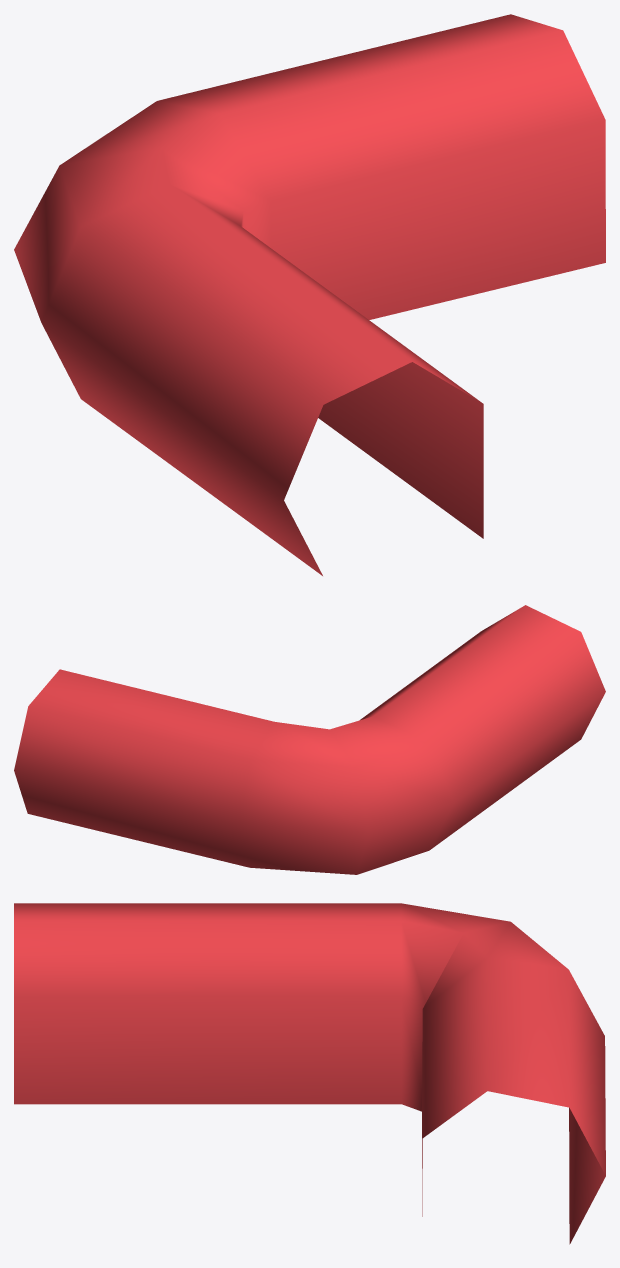
The model's file is Norris_Maze_Red_Wire_LR.fbx.
The picture shows the model from 3 angles, top to bottom: view 1: azimuth 30°, elevation 25°; view 2: azimuth 150°, elevation 25°; view 3: azimuth 270°, elevation 25°; orthographic projection. The views are drawn at different scales.
Parts seen in each view (by area): view 1: WireRight4; view 2: WireRight4; view 3: WireRight4.
Part boxes in pixels (x1,y1,x2,y2): WireRight4: (14, 14, 605, 575); WireRight4: (14, 605, 605, 874); WireRight4: (14, 903, 605, 1244).
Size of the model in its own units: 2.97 by 0.9959 by 3.3.
